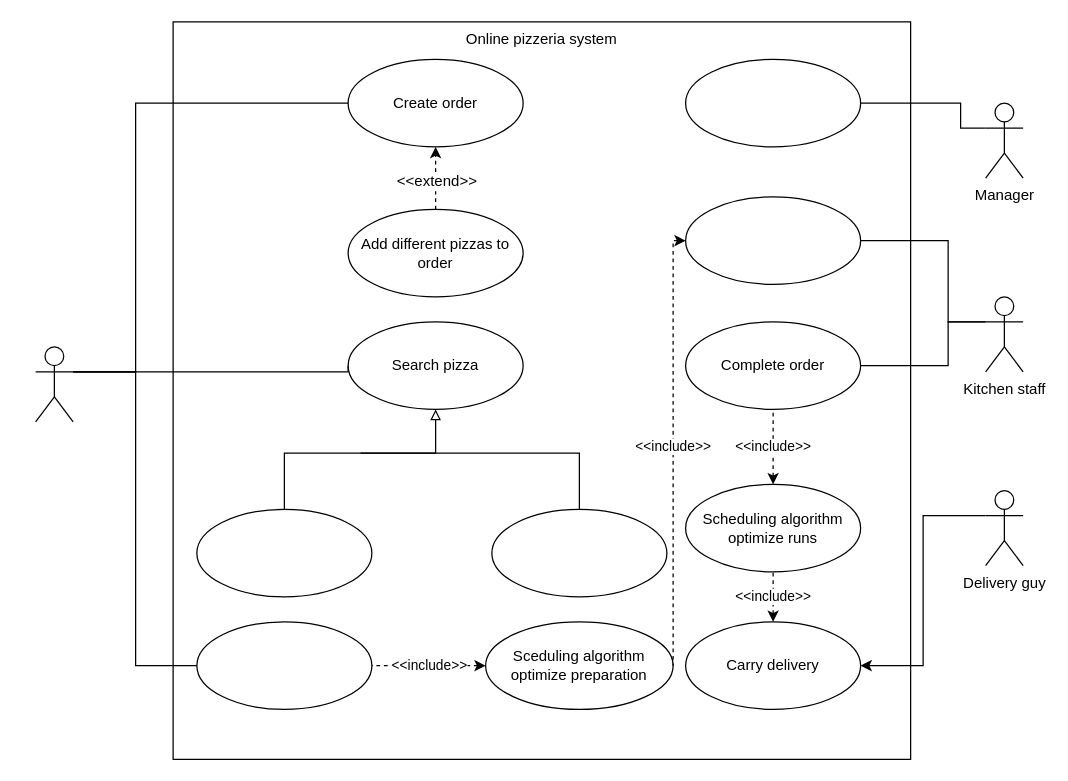
Image size: 1068x781. Some labels were removed from this diagram. Each missing label, with the centre of its shape:
Choose scheduler: point (772, 102)
Confirm order: point (284, 665)
Customer: point (53, 384)
Prepare order: point (772, 240)
Search by ingredients: point (579, 552)
Search by name: point (284, 552)
